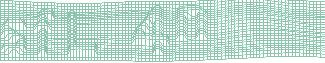4: (127, 4, 171, 56)
L: (64, 8, 100, 58)
f: (32, 7, 58, 59)
n: (174, 4, 211, 42)
s: (1, 16, 28, 57)
